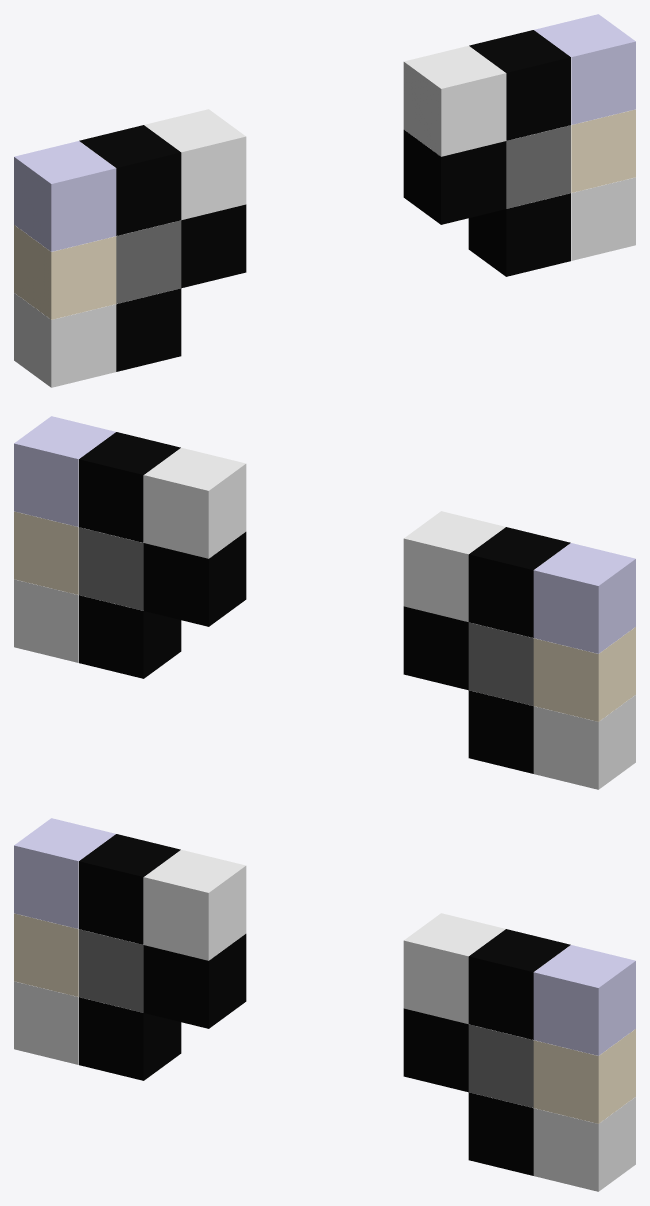
File: 164_eyes_waifu.glb
3 renders of one model, top to bottom at view 1: azimuth 30°, elevation 25°; view 2: azimuth 150°, elevation 25°; view 3: azimuth 330°, elevation 25°, orthographic.
Bounding box in the file's own units: 9 × 3 × 0.999.
